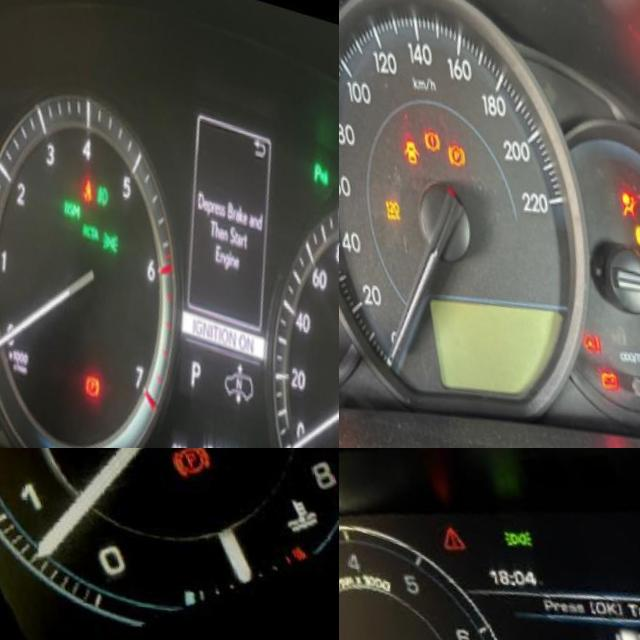Electronic Power Steering: (568, 313, 597, 352)
Engine cooling system: (266, 483, 324, 543)
